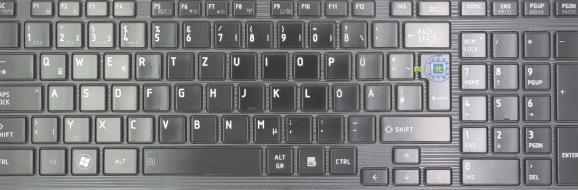0: (306, 19, 334, 48)
1: (21, 19, 49, 47)
2: (53, 19, 81, 46)
3: (85, 19, 112, 46)
4: (117, 19, 143, 46)
5: (148, 19, 175, 46)
6: (180, 18, 207, 47)
7: (212, 18, 239, 47)
8: (243, 18, 270, 47)
9: (275, 18, 302, 47)
a: (45, 82, 71, 109)
accent: (369, 18, 396, 46)
ae: (361, 80, 389, 109)
alt-left: (101, 145, 136, 172)
altgr-right: (264, 143, 292, 173)
b: (187, 112, 215, 141)
c: (124, 113, 151, 141)
caret: (1, 18, 16, 46)
comma: (283, 112, 309, 141)
d: (109, 81, 135, 109)
del: (401, 19, 448, 46)
e: (101, 50, 128, 78)
enter: (417, 48, 449, 110)
f: (140, 81, 167, 109)
g: (172, 81, 199, 110)
h: (203, 81, 230, 110)
hash: (394, 81, 419, 109)
i: (259, 50, 285, 78)
j: (235, 80, 262, 110)
k: (267, 81, 293, 110)
keyboard: (1, 1, 578, 188)
l: (299, 81, 325, 110)
less: (29, 113, 56, 141)
m: (251, 112, 279, 142)
minus: (345, 112, 373, 141)
n: (219, 112, 246, 141)
o: (289, 49, 316, 78)
oe: (329, 80, 356, 110)
p: (321, 48, 348, 77)
plus: (385, 49, 412, 77)
point: (315, 112, 342, 141)
q: (37, 50, 65, 78)
r: (132, 50, 159, 78)
s: (77, 82, 103, 109)
shift-left: (1, 115, 27, 144)
shift-lock: (1, 83, 43, 112)
shift-right: (376, 112, 450, 141)
space: (140, 143, 260, 174)
ss: (337, 18, 365, 47)
strg-left: (1, 147, 36, 176)
strg-right: (327, 143, 354, 173)
t: (164, 49, 192, 78)
tab: (1, 49, 31, 79)
u: (226, 49, 253, 78)
ue: (352, 49, 380, 77)
v: (156, 112, 183, 141)
w: (69, 50, 95, 78)
x: (93, 113, 119, 141)
y: (61, 113, 88, 141)
z: (196, 49, 222, 78)
